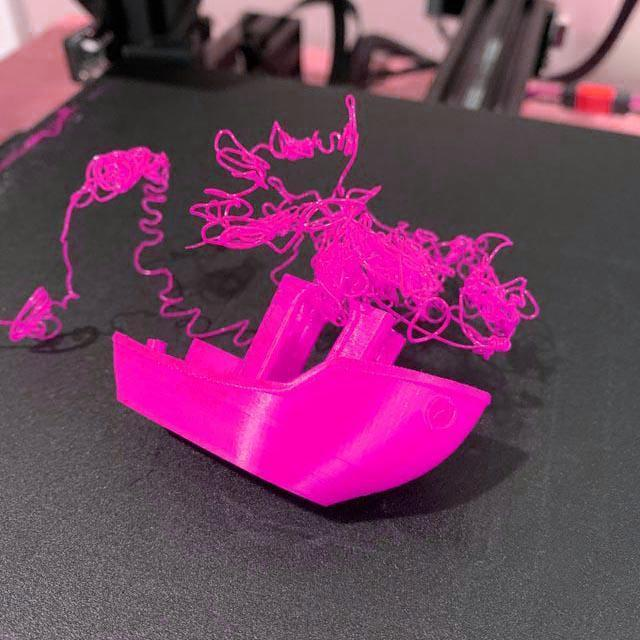spaghetti: (1, 92, 542, 361)
